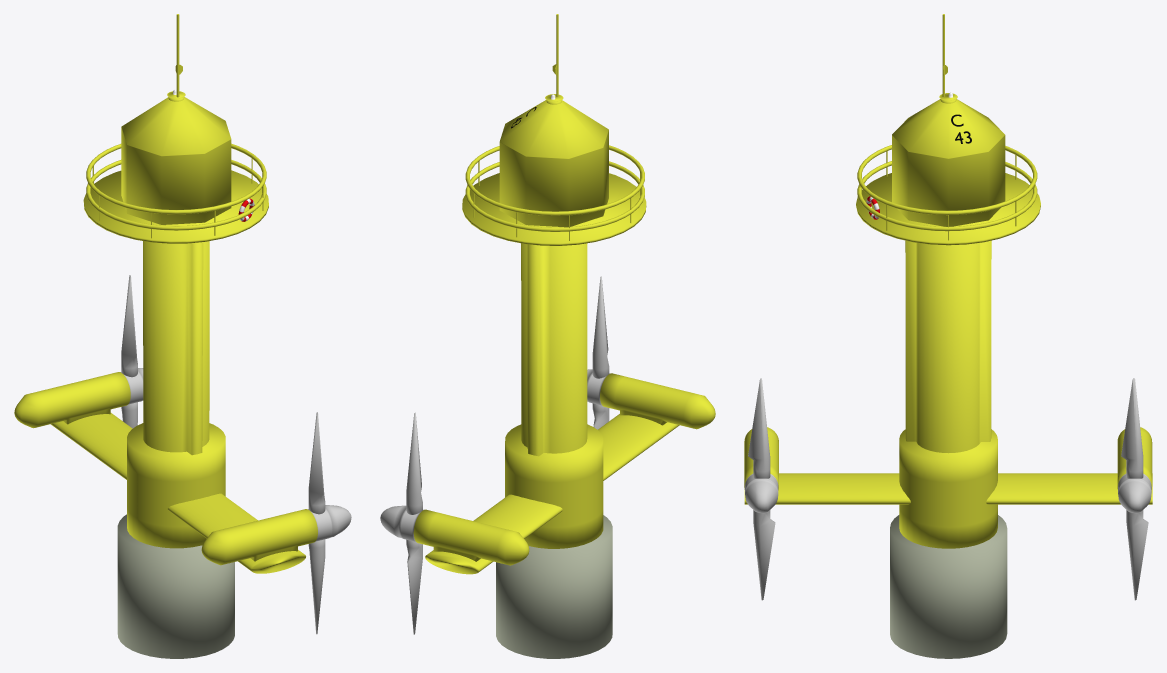
File: powerstation.gltf
3 views of the same model, side by side, from view 1: azimuth 30°, elevation 25°; view 2: azimuth 150°, elevation 25°; view 3: azimuth 270°, elevation 25° (orthographic).
Visible parts, largest first — view 1: Turm, Spitze, Halter, Arm, TurbineL, Plattform, TurbineR, Gelaender, Blatt, Blatt.001, Blatt02; view 2: Turm, Spitze, Halter, Arm, TurbineR, Plattform, TurbineL, Gelaender, Blatt, Blatt.001, Blatt02.001; view 3: Turm, Spitze, Halter, Arm, Plattform, Gelaender, TurbineR, TurbineL, Blatt.001, Blatt, Blatt02, Blatt02.001.
Part boxes in pixels (left/top/right/bottom): Turm: left=117, top=89, right=234, bottom=658; Spitze: left=121, top=97, right=231, bottom=224; Halter: left=127, top=423, right=225, bottom=548; Arm: left=51, top=413, right=305, bottom=573; TurbineL: left=201, top=505, right=351, bottom=565; Plattform: left=83, top=170, right=268, bottom=243; TurbineR: left=14, top=368, right=143, bottom=428; Gelaender: left=86, top=143, right=266, bottom=230; Blatt: left=308, top=412, right=325, bottom=514; Blatt.001: left=121, top=275, right=137, bottom=377; Blatt02: left=308, top=539, right=325, bottom=634; Turm: left=496, top=94, right=612, bottom=658; Spitze: left=499, top=100, right=608, bottom=227; Halter: left=505, top=424, right=603, bottom=548; Arm: left=425, top=414, right=679, bottom=574; TurbineR: left=380, top=505, right=529, bottom=565; Plattform: left=462, top=173, right=646, bottom=245; TurbineL: left=587, top=369, right=715, bottom=429; Gelaender: left=465, top=145, right=644, bottom=231; Blatt: left=592, top=276, right=609, bottom=378; Blatt.001: left=406, top=412, right=422, bottom=514; Blatt02.001: left=406, top=539, right=422, bottom=634; Turm: left=890, top=92, right=1007, bottom=658; Spitze: left=892, top=99, right=1005, bottom=226; Halter: left=899, top=429, right=997, bottom=548; Arm: left=744, top=473, right=1152, bottom=504; Plattform: left=856, top=173, right=1040, bottom=245; Gelaender: left=857, top=145, right=1037, bottom=231; TurbineR: left=1117, top=427, right=1152, bottom=512; TurbineL: left=744, top=427, right=778, bottom=512; Blatt.001: left=1121, top=378, right=1143, bottom=478; Blatt: left=748, top=378, right=770, bottom=478; Blatt02: left=753, top=510, right=775, bottom=600; Blatt02.001: left=1126, top=510, right=1148, bottom=600.
Size of the model in its own units: 3.26 by 12.05 by 7.2.
